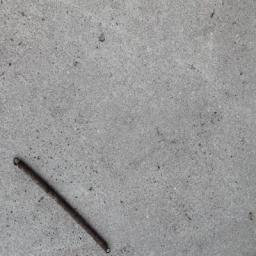FOD: (12, 156, 113, 256)
